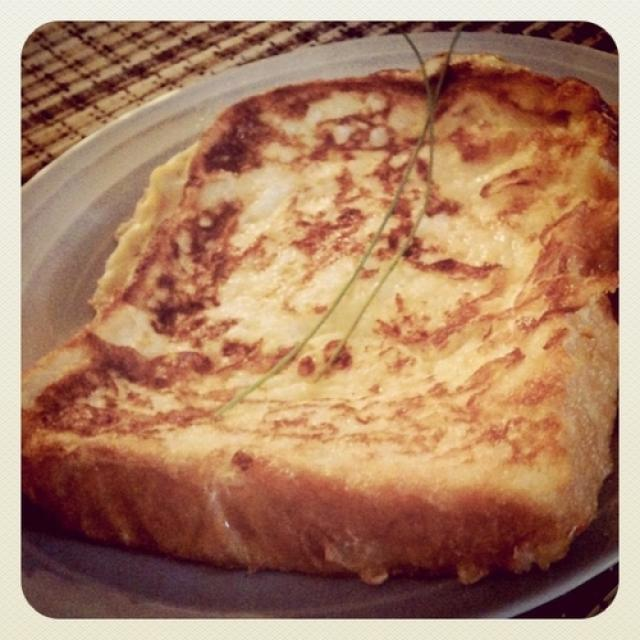面包点心: (41, 47, 612, 589)
